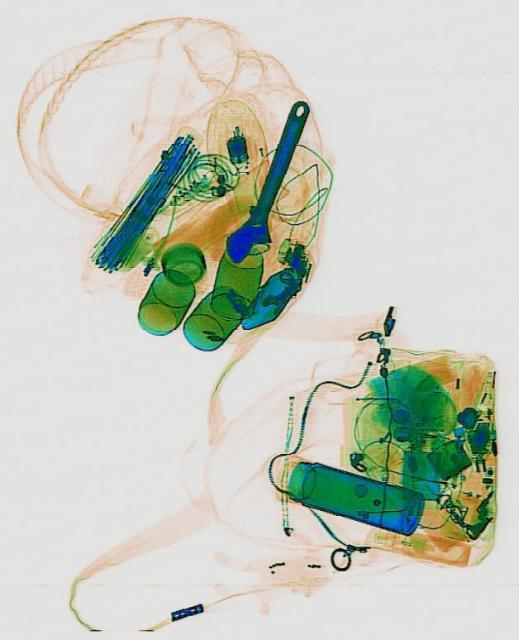Wrench: (219, 93, 322, 273)
